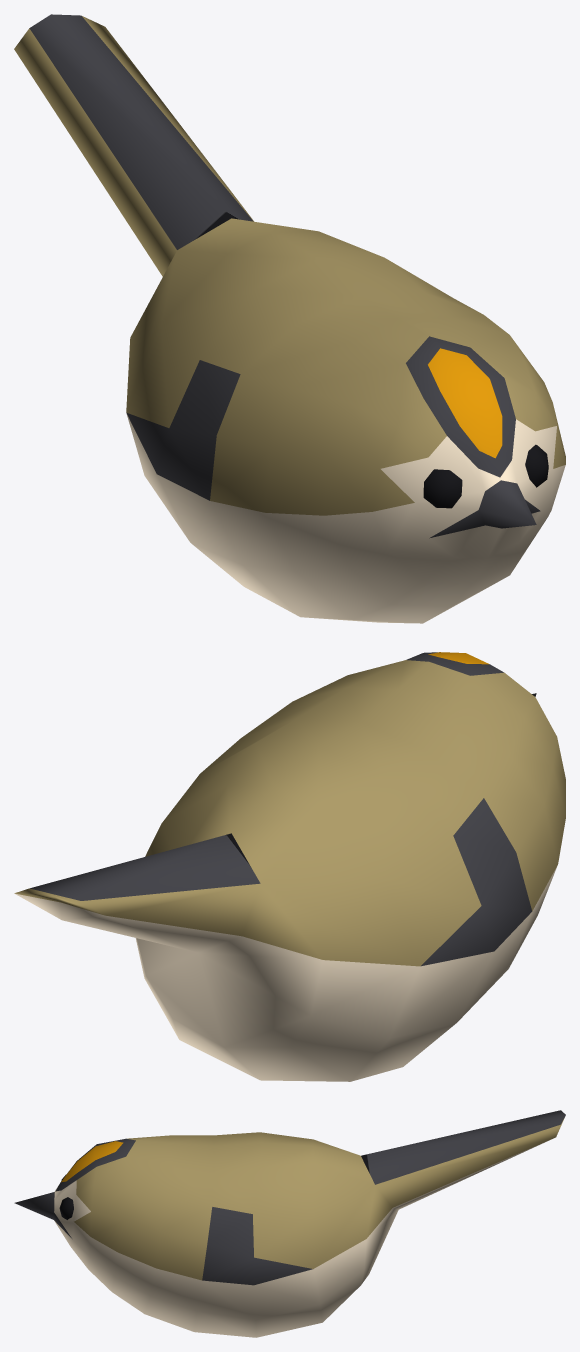
The model's file is Gold_Crest.fbx.
The picture shows the model from 3 angles, top to bottom: view 1: azimuth 30°, elevation 25°; view 2: azimuth 150°, elevation 25°; view 3: azimuth 270°, elevation 25°; orthographic projection. The views are drawn at different scales.
Parts seen in each view (by area): view 1: Gold_Crest; view 2: Gold_Crest; view 3: Gold_Crest.
Boxes of the visible parts, box(x1,y1,x2,y2) form: Gold_Crest: box(14, 14, 565, 623); Gold_Crest: box(14, 652, 565, 1081); Gold_Crest: box(14, 1110, 565, 1337).
Size of the model in its own units: 12.08 by 12.86 by 30.1.
Materials: 1 (1 with a texture image).
